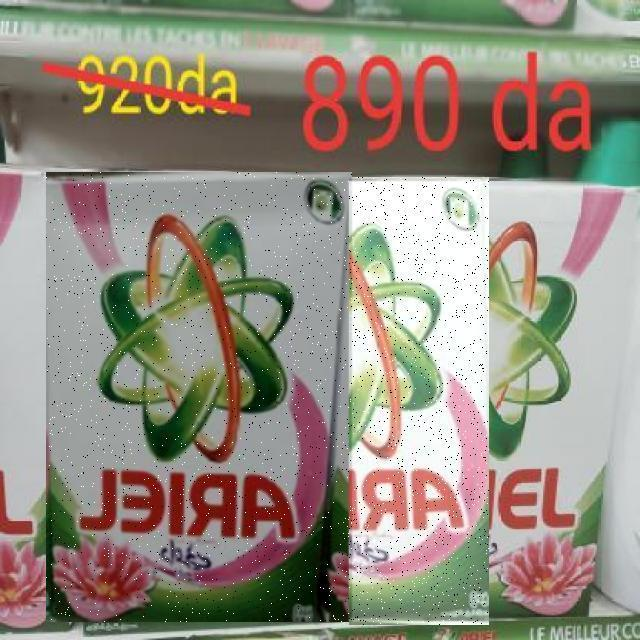Detergent: (46, 172, 352, 622), (349, 177, 489, 625)
